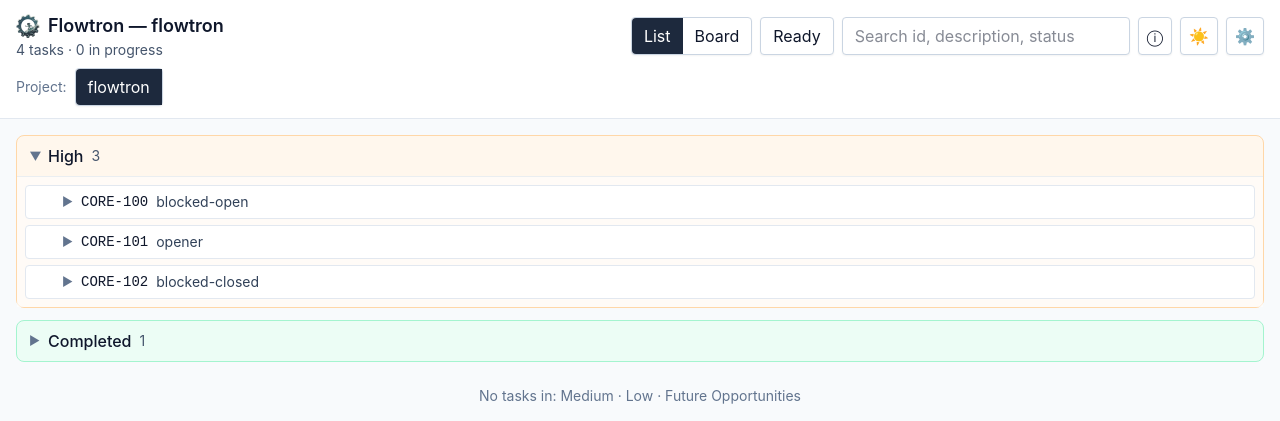
Test: App — Ready filter › keeps only open rows whose blockers are all closed, and Esc clears it
Check: the text "CORE-100" is shown, box [81,192,148,212]
Check: the text "CORE-101" is shown, box [81,232,148,252]
Click the button "Ready" at (797, 36), box [760,17,834,55]
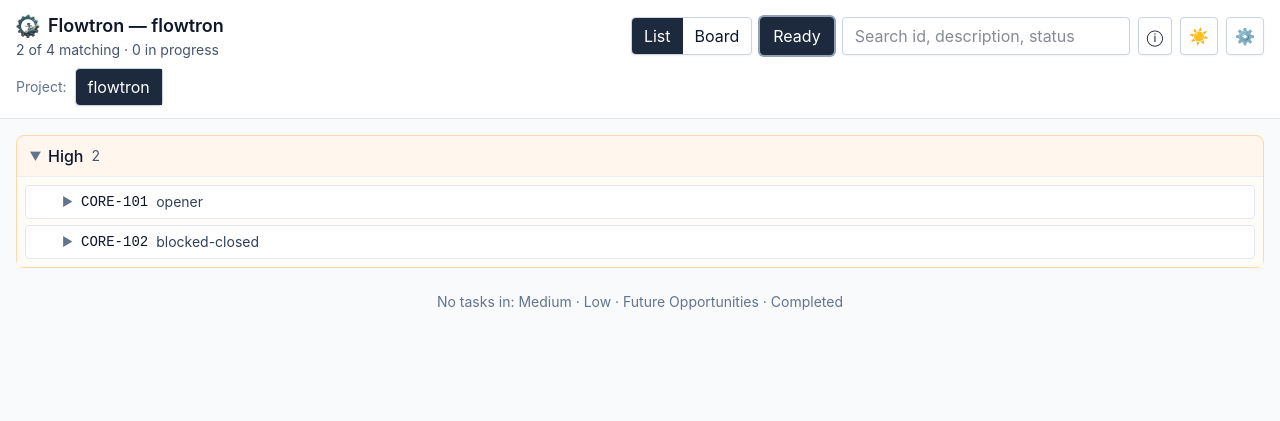
Check: the text "CORE-101" is shown, box [81,192,148,212]
Check: the button "CORE-100" is gone
Check: the text "2 of 4 matching · 0 in progress" is shown, box [16,40,224,60]
Press Escape
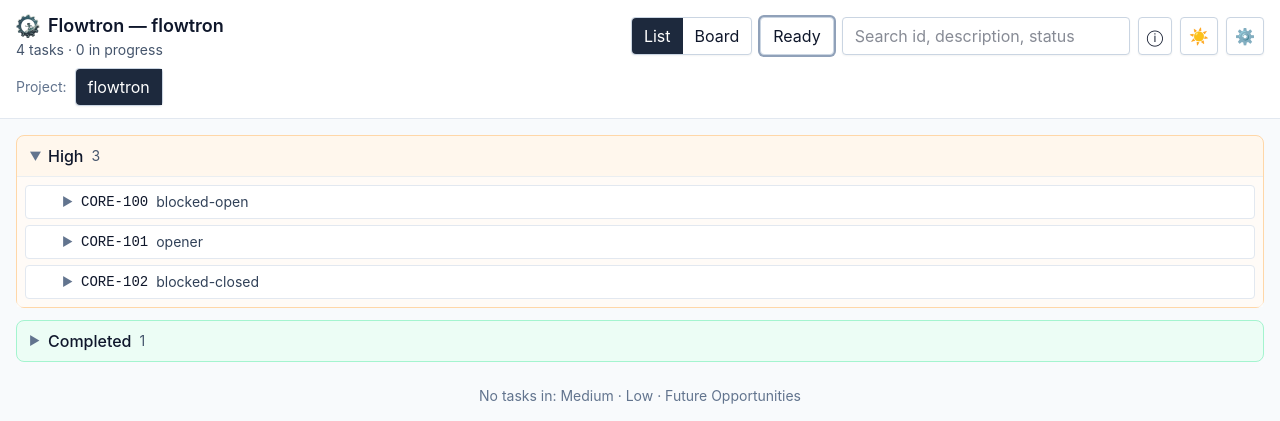
Check: the text "CORE-100" is shown, box [81,192,148,212]
Check: the text "4 tasks · 0 in progress" is shown, box [16,41,163,58]
